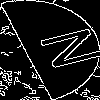N: (25, 25, 100, 75)
